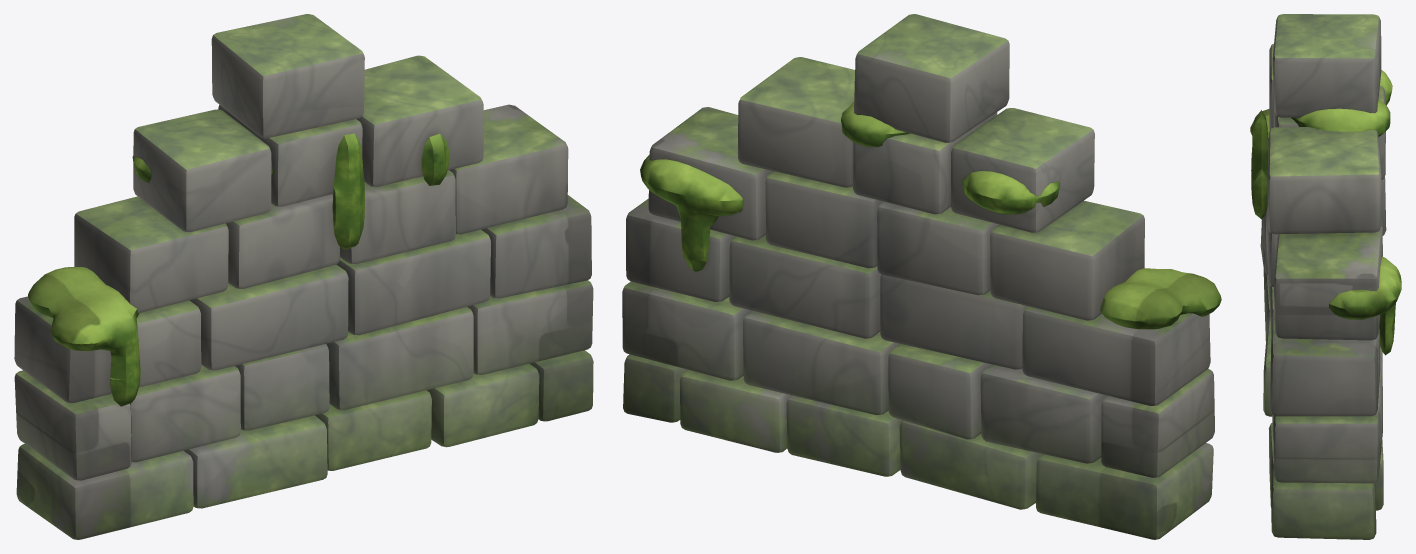
Rendered from ruin_wall_a.glb.
The picture shows the model from 3 angles, left to right: view 1: azimuth 30°, elevation 25°; view 2: azimuth 150°, elevation 25°; view 3: azimuth 270°, elevation 25°; orthographic projection. The views are drawn at different scales.
Parts seen in each view (by area): view 1: ruin_wall_a; view 2: ruin_wall_a; view 3: ruin_wall_a.
Part boxes in pixels (x1,y1,x2,y2): ruin_wall_a: (14,14,593,539); ruin_wall_a: (622,14,1221,539); ruin_wall_a: (1250,14,1401,539).
Bounding box in the file's own units: 2.54 × 1.88 × 0.6736.
1 material, 1 textured.
